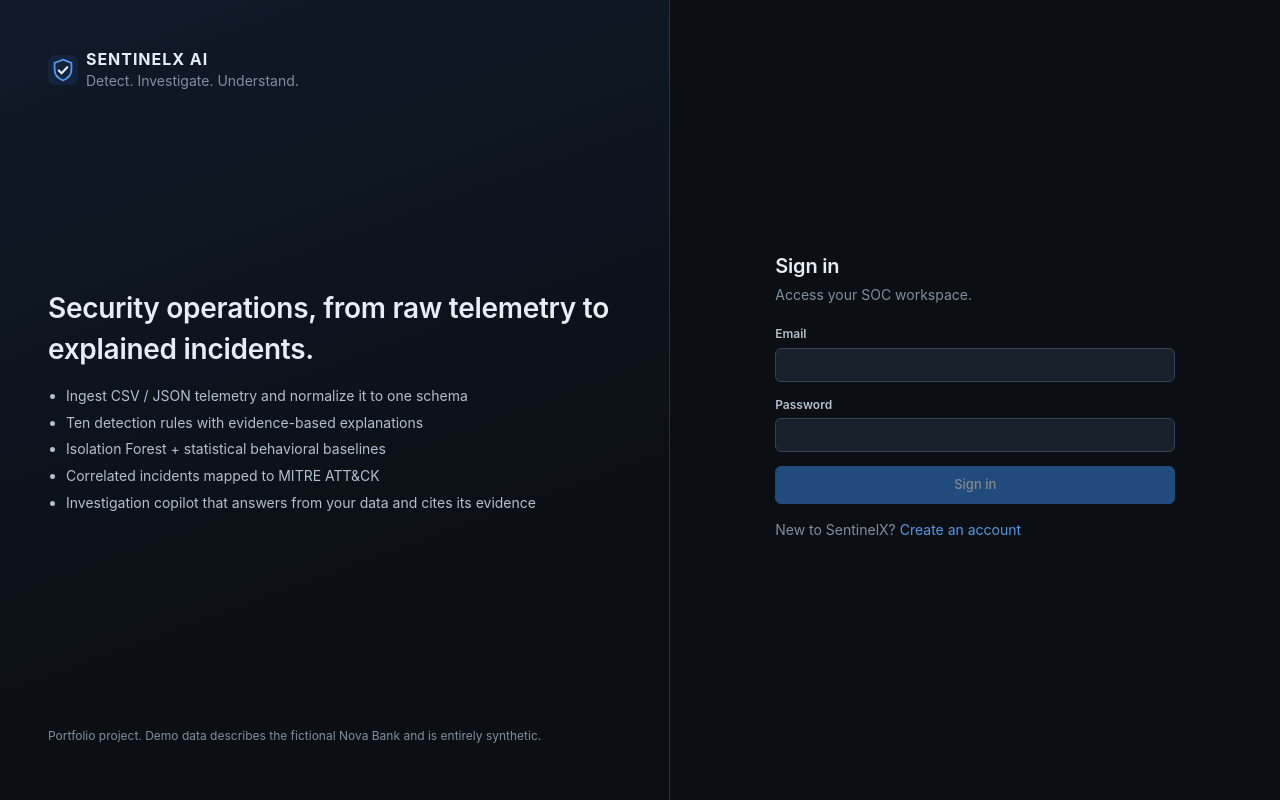
Test: authentication › shows server errors on failed login
Type "x@example.com" into the field labelled "Email". click: (975, 364)
box: [775, 348, 1175, 382]
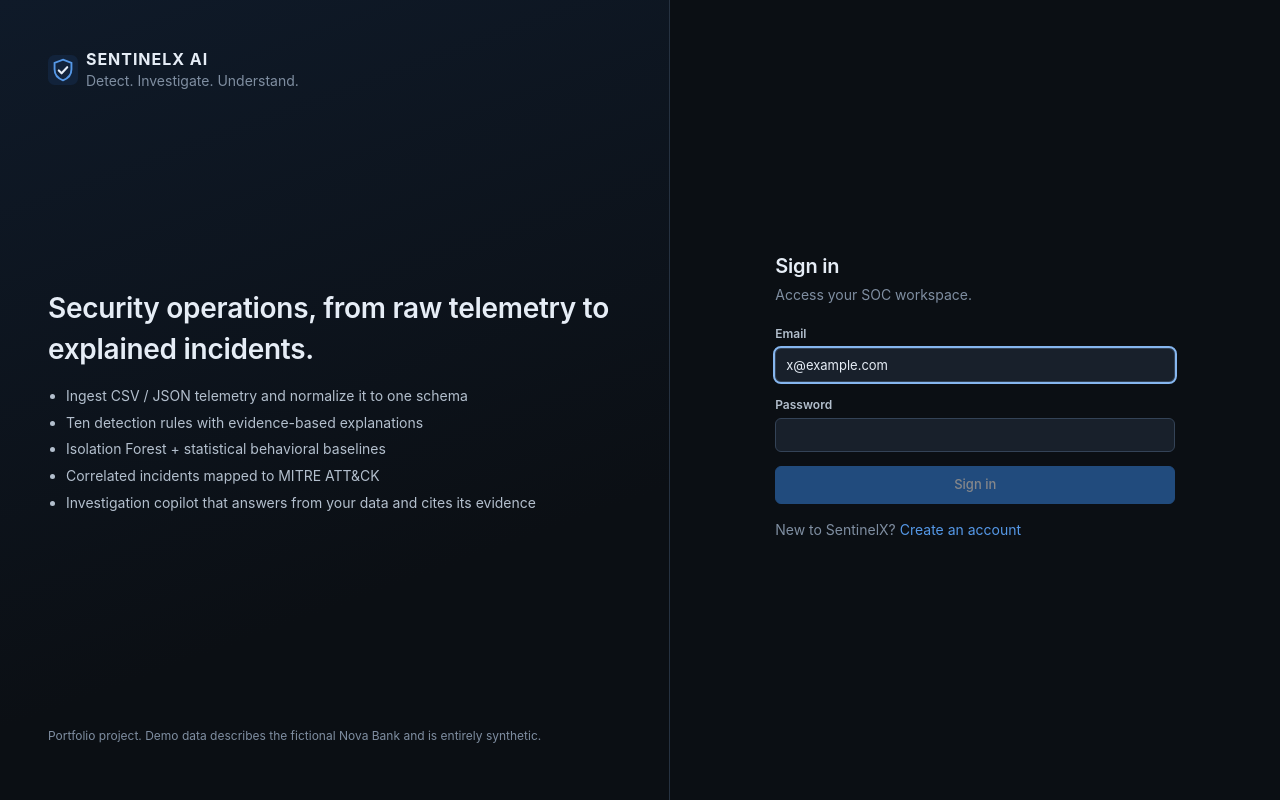
Type "nope" into the password field labelled "Password". click: (975, 435)
box: [775, 418, 1175, 452]
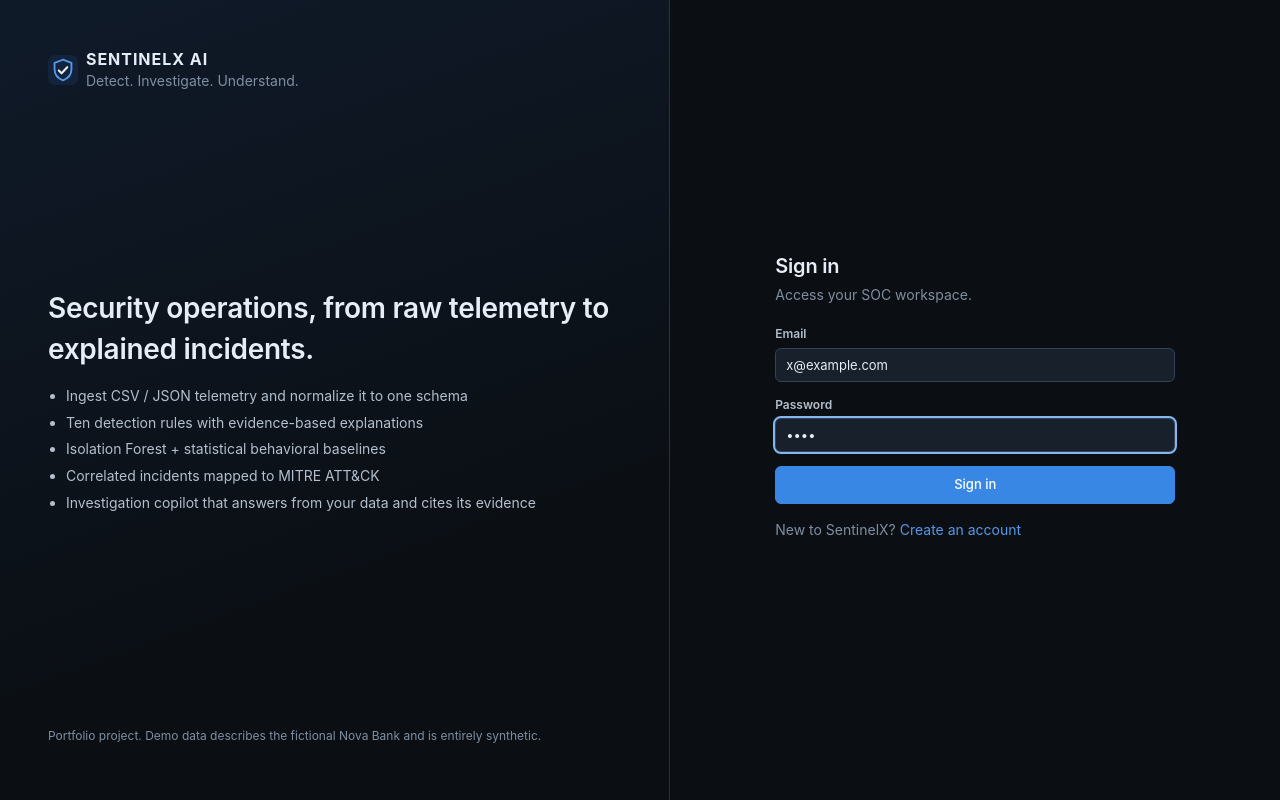
Click the button "Sign in". click: (975, 485)
box: [775, 466, 1175, 504]
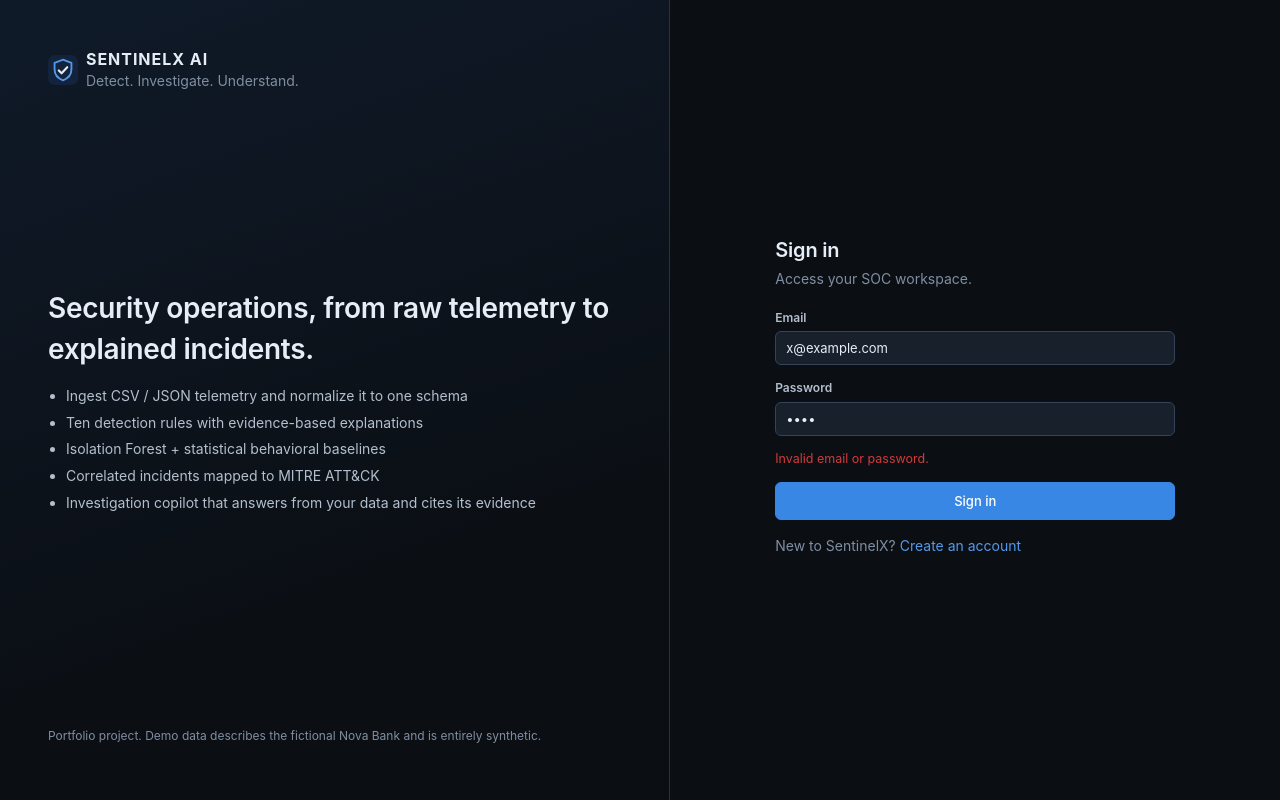
Now the message reads "Invalid email or password.", box [775, 451, 929, 466]
